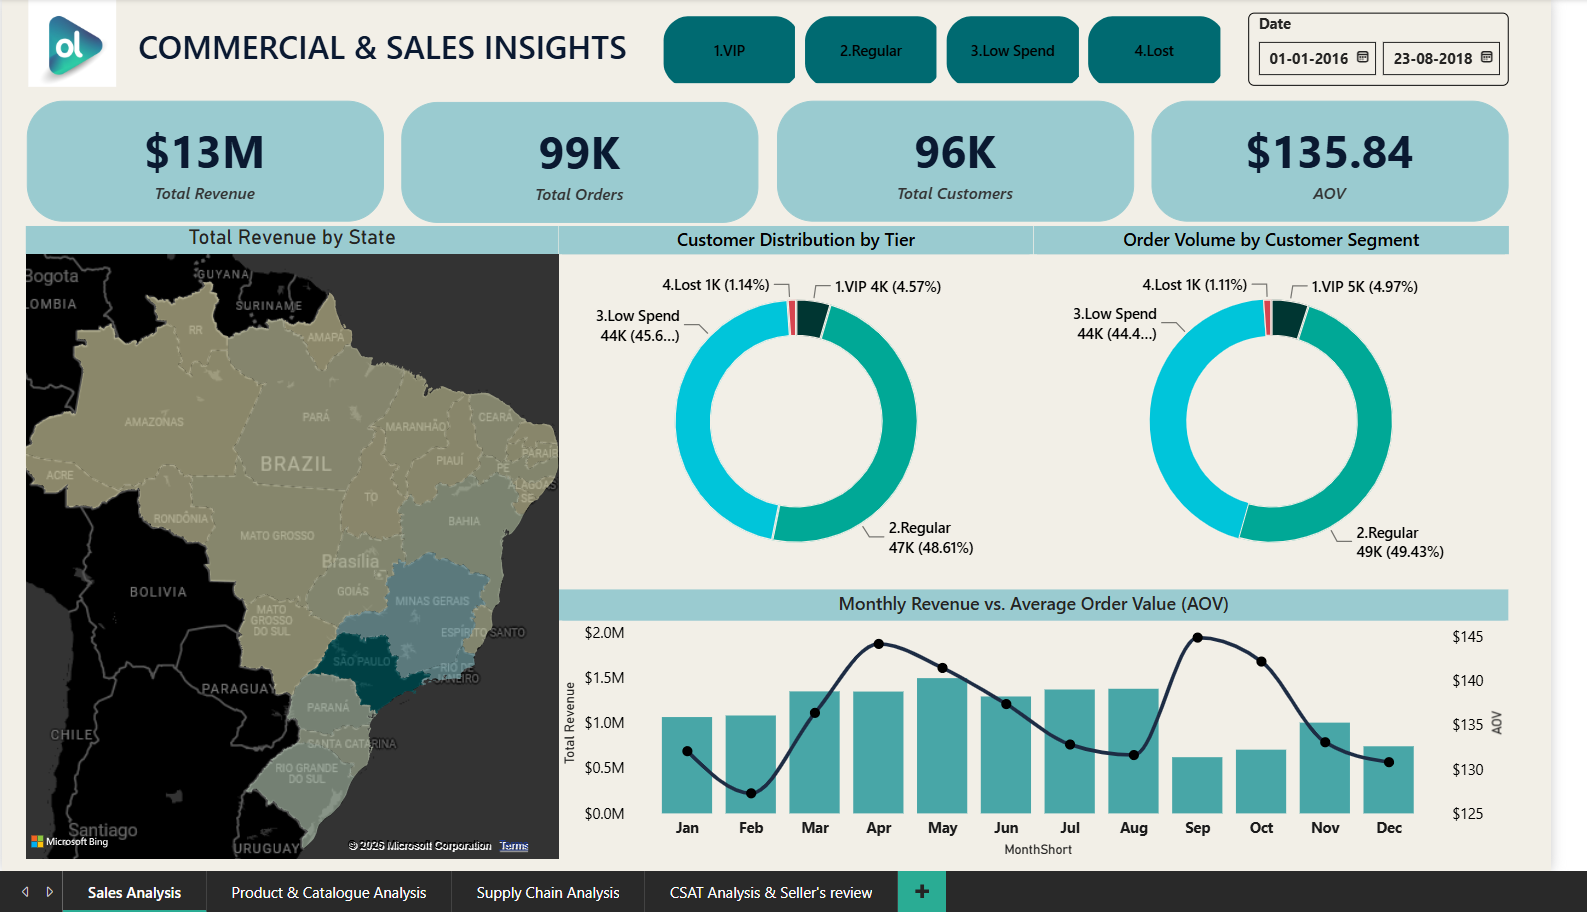

Layout of this report page (visuals, bound fields, positions):
{"tool":"powerbi","page":{"name":"Sales Analysis","canvas":[1280,720],"ordinal":0},"visuals":[{"type":"card","fields":{"Values":["olist_order_items_dataset.Total Revenue"]},"box":[20,84.2,295,100],"z":0},{"type":"card","fields":{"Values":["olist_order_items_dataset.AOV"]},"box":[950,84.2,295,100],"z":1000},{"type":"donutChart","title":"Customer Distribution by Tier","fields":{"Y":["olist_customers_dataset.Total Customers"],"Category":["clean_customer_clv.Display_Label"]},"box":[460,187.5,392,300],"z":2000},{"type":"card","fields":{"Values":["olist_orders_dataset.Total Orders"]},"box":[330,85.4,295,100],"z":3000},{"type":"lineStackedColumnComboChart","title":"Monthly Revenue vs. Average Order Value (AOV)","fields":{"Y":["olist_order_items_dataset.Total Revenue"],"Y2":["olist_order_items_dataset.AOV"],"Category":["Calendar.MonthShort"]},"box":[460,487.5,785,222.5],"z":4000},{"type":"card","fields":{"Values":["olist_customers_dataset.Total Customers"]},"box":[640,84.2,295,100],"z":5000},{"type":"filledMap","title":"Total Revenue by State","fields":{"Category":["olist_customers_dataset.Customer Full Region"]},"box":[19.8,187.2,440.7,523.3],"z":6000},{"type":"donutChart","title":"Order Volume by Customer Segment","fields":{"Y":["olist_orders_dataset.Total Orders"],"Category":["clean_customer_clv.Display_Label"]},"box":[852.5,187.5,392.5,300],"z":7000},{"type":"textbox","box":[104.7,11.6,419.8,60.5],"z":8000},{"type":"image","box":[0,0,116.1,72.4],"z":9000},{"type":"advancedSlicerVisual","fields":{"Values":["clean_customer_clv.Display_Label"]},"box":[524.4,12.8,505.8,59.3],"z":10000},{"type":"slicer","fields":{"Values":["Calendar.Date"]},"box":[1030.2,11.6,215.1,60.5],"z":11000}]}

Visuals, with their boxes on the page's 1280x720 design canvas (x1, y1, x2, y2). These are canvas units, not pixel positions in the 1587x912 screenshot, which may show the page scaled, cropped or inside an application window:
card - olist_order_items_dataset.Total Revenue: bbox=(20, 84, 315, 184)
card - olist_order_items_dataset.AOV: bbox=(950, 84, 1245, 184)
"Customer Distribution by Tier" donutChart: bbox=(460, 188, 852, 488)
card - olist_orders_dataset.Total Orders: bbox=(330, 85, 625, 185)
"Monthly Revenue vs. Average Order Value (AOV)" lineStackedColumnComboChart: bbox=(460, 488, 1245, 710)
card - olist_customers_dataset.Total Customers: bbox=(640, 84, 935, 184)
"Total Revenue by State" filledMap: bbox=(20, 187, 460, 710)
"Order Volume by Customer Segment" donutChart: bbox=(852, 188, 1245, 488)
textbox: bbox=(105, 12, 524, 72)
image: bbox=(0, 0, 116, 72)
advancedSlicerVisual - clean_customer_clv.Display_Label: bbox=(524, 13, 1030, 72)
slicer - Calendar.Date: bbox=(1030, 12, 1245, 72)
